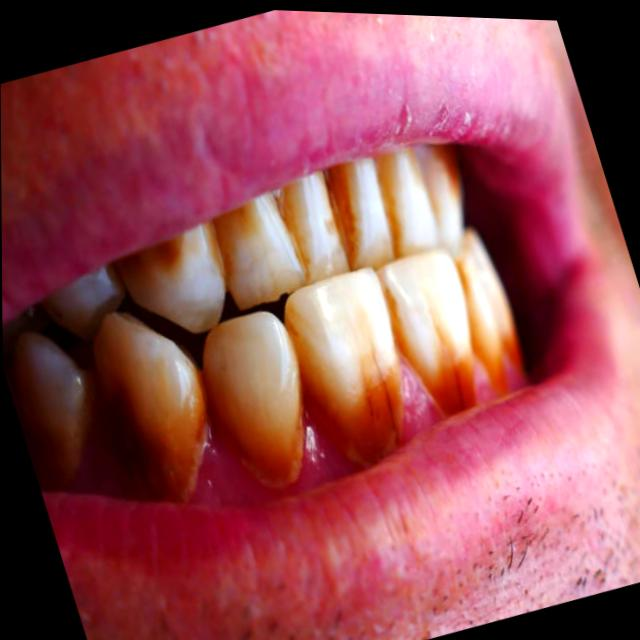tooth-discoloration: (285, 269, 405, 463), (94, 313, 207, 501), (204, 312, 304, 486), (456, 235, 511, 396)
